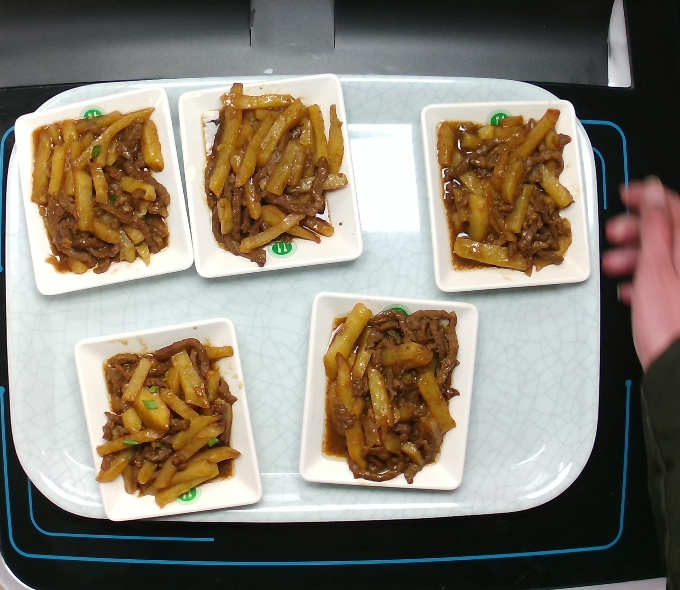wcq-TuDouNiuRou: (201, 77, 349, 263), (322, 303, 466, 491), (24, 102, 177, 277), (432, 110, 582, 271), (89, 342, 236, 503)
